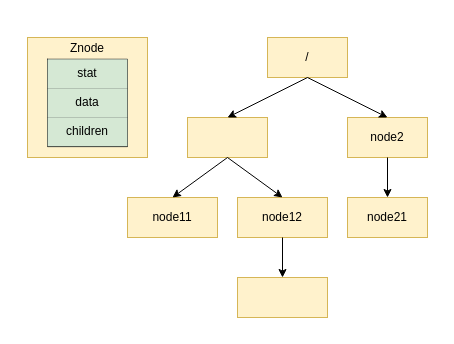
Some shapes in this 454 by 344 pixel diagram are drawn without their labels. The centre of each missing label's shape, as x and y in pixels:
"node1" goes at point (227, 137).
"node121" goes at point (282, 297).
